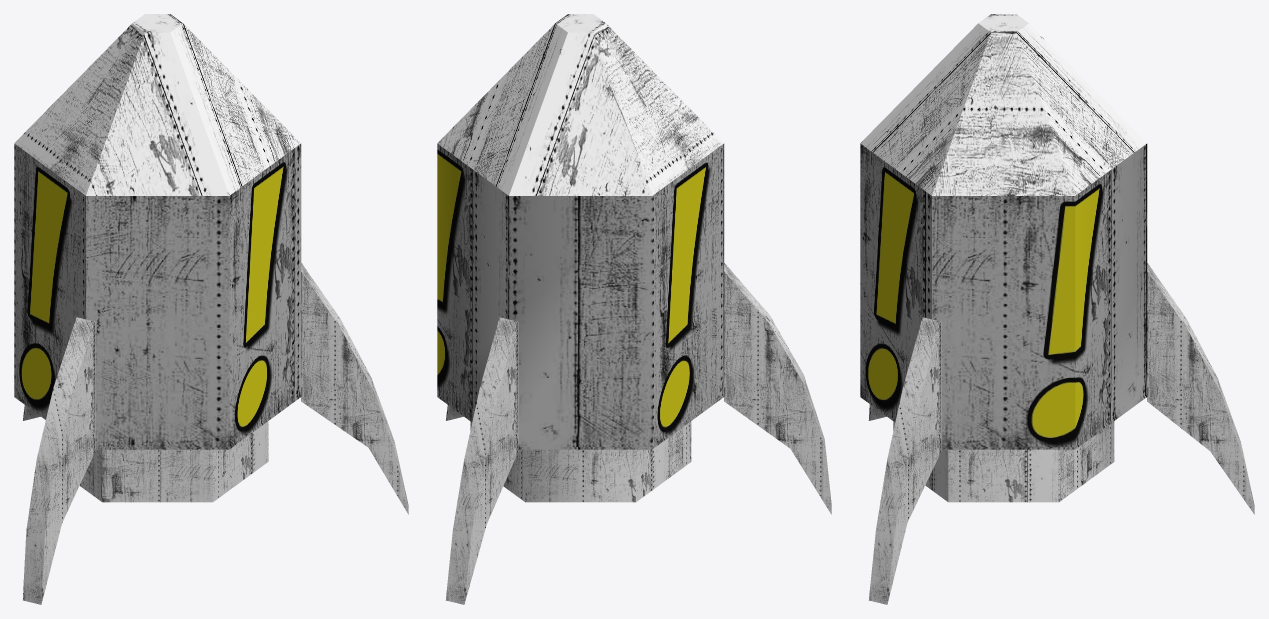
The model's file is paddle_rocket.obj.
3 renders of one model, left to right at view 1: azimuth 30°, elevation 25°; view 2: azimuth 150°, elevation 25°; view 3: azimuth 270°, elevation 25°, orthographic.
Visible parts, largest first — view 1: Mesh1 Model; view 2: Mesh1 Model; view 3: Mesh1 Model.
Boxes of the visible parts, <box> form: Mesh1 Model: <box>14,14,408,604</box>; Mesh1 Model: <box>437,14,831,604</box>; Mesh1 Model: <box>860,14,1254,604</box>.
Bounding box in the file's own units: 1.24 × 1.5 × 1.1.
